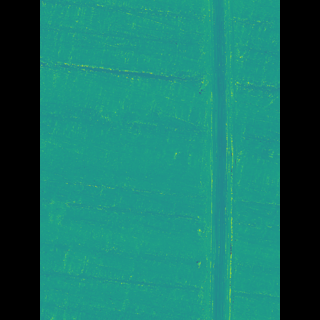Loch: (184, 0, 221, 320)
